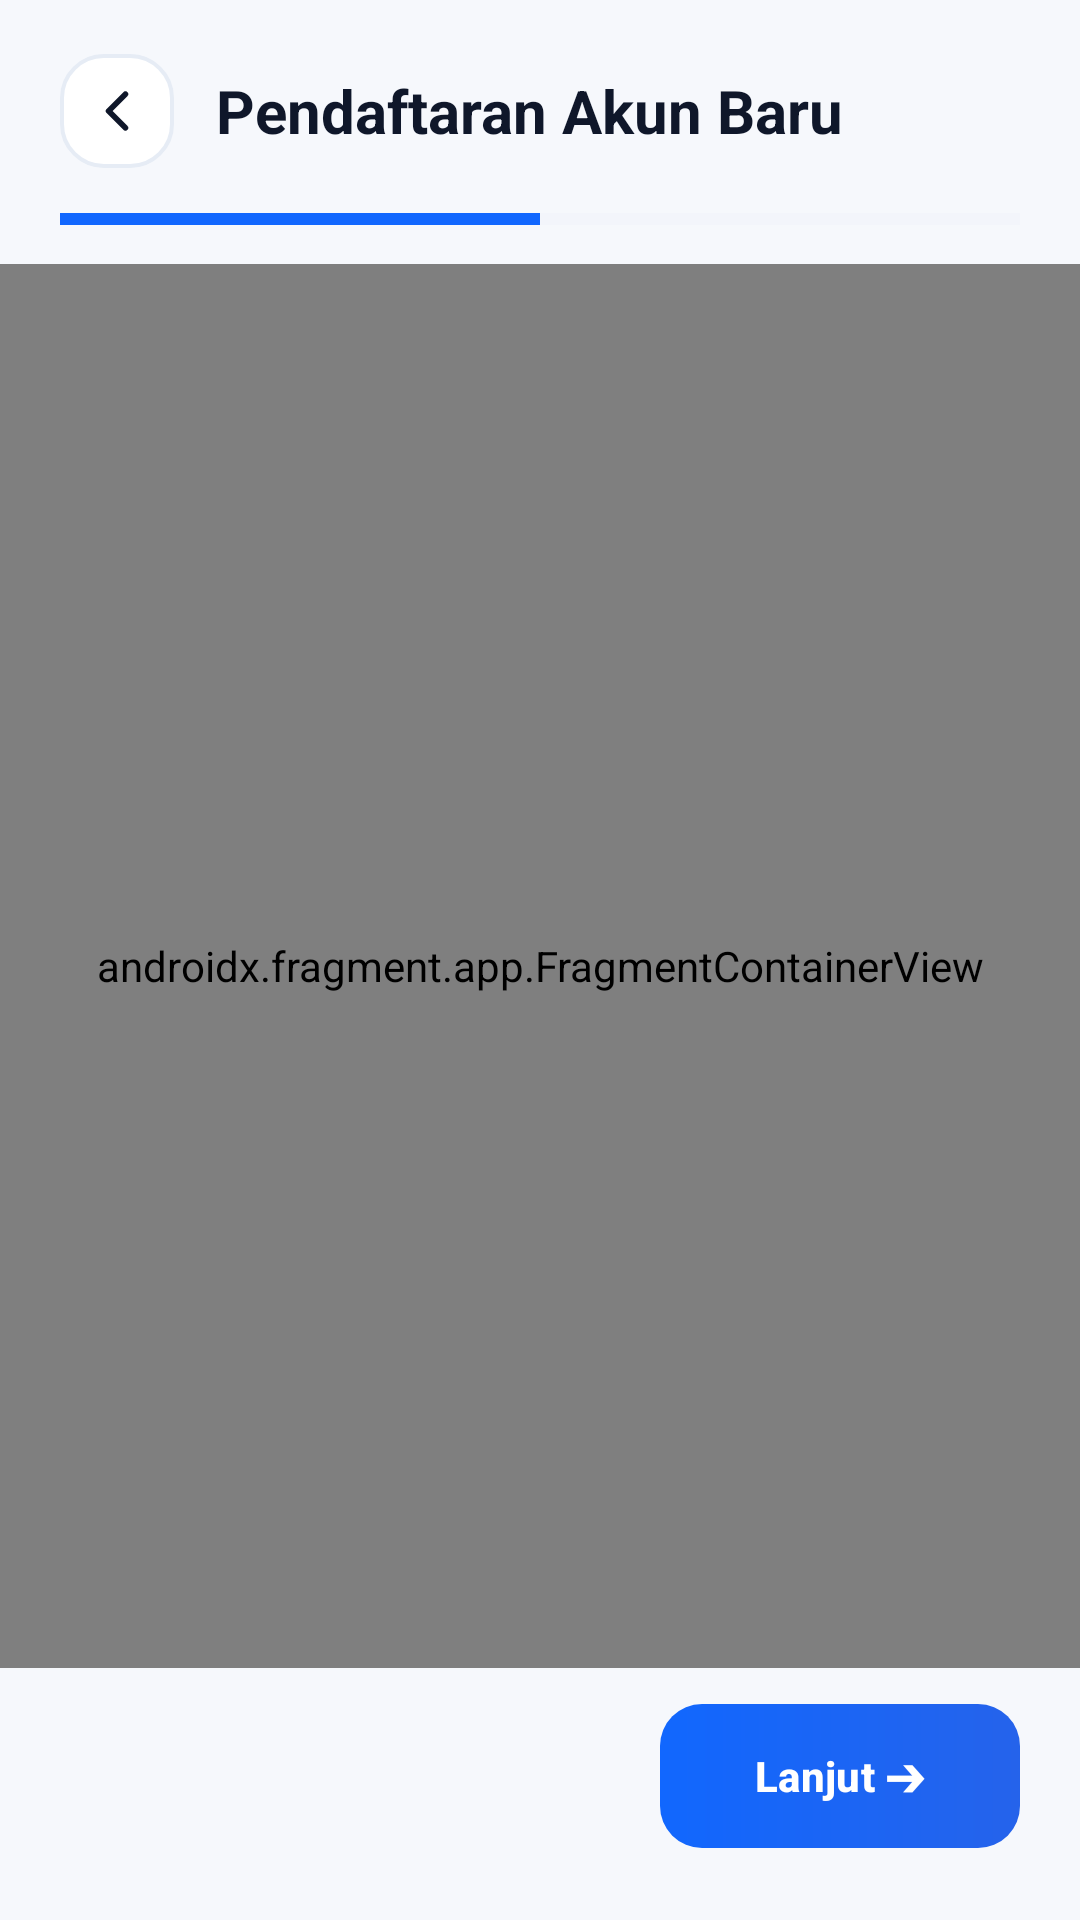

Locate icon controls on the screen. Image size 1080px x 1920px, boxes as BBox(x1, y1, x2, y2).
Kembali: BBox(60, 54, 174, 168)
